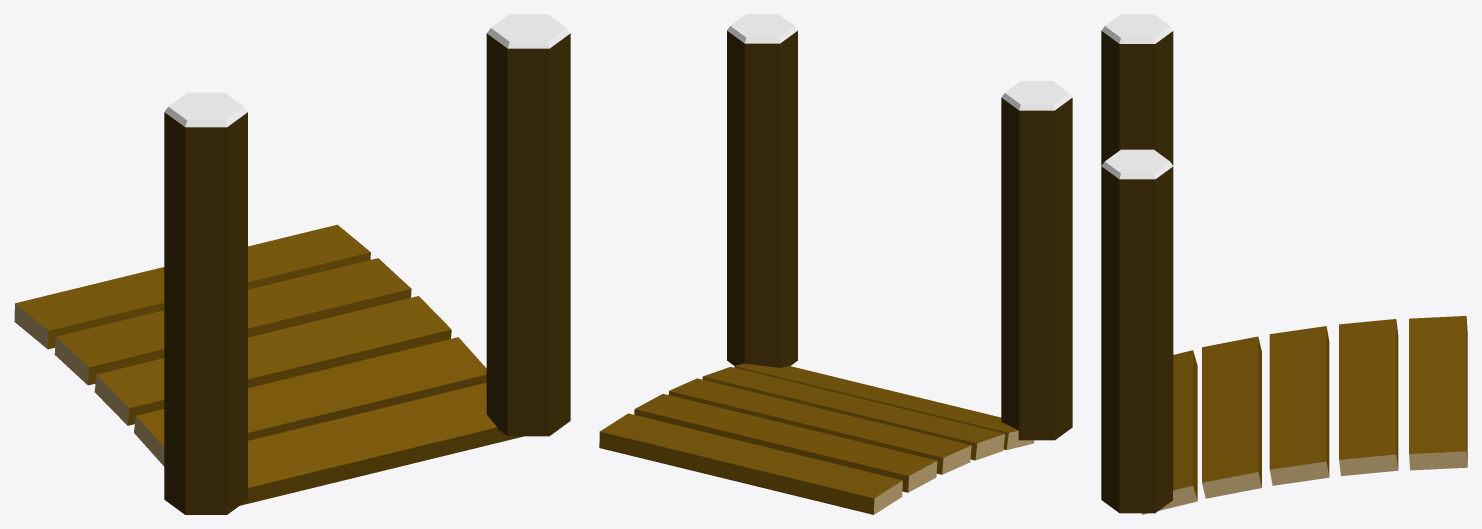
The model's file is Bridge_2_Snow.fbx.
3 views of the same model, side by side, from view 1: azimuth 30°, elevation 25°; view 2: azimuth 150°, elevation 25°; view 3: azimuth 270°, elevation 25° (orthographic). The views are drawn at different scales.
Visible parts, largest first — view 1: Bridge_2_Snow; view 2: Bridge_2_Snow; view 3: Bridge_2_Snow.
Boxes of the visible parts, box(x1,y1,x2,y2) form: Bridge_2_Snow: box(14, 14, 570, 514); Bridge_2_Snow: box(599, 14, 1072, 514); Bridge_2_Snow: box(1101, 14, 1467, 514).
Size of the model in its own units: 3.58 by 3.65 by 3.43.
